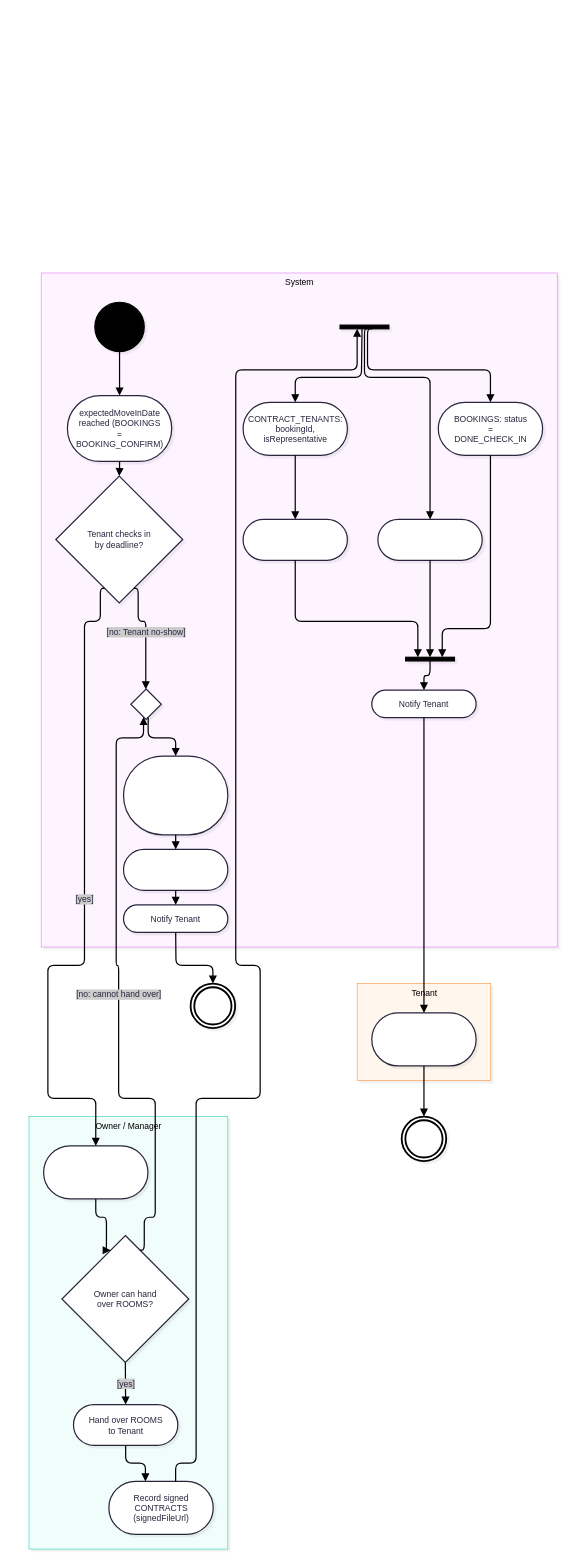
This 570x1562 diagram has some shape labels left out. The centre of each missing label's shape, as x and y in pixels:
BOOKINGS: status = CANCELED, deposit per cancellationPolicy: the point at 177,796
Inspect ROOMS condition with Tenant: the point at 97,1173
ROOM_SLOT_OCCUPANCIES: create: the point at 296,540
ROOMS: status = Available: the point at 177,871
ROOMS: status = Occupied: the point at 431,540
View ROOMS in 'Phòng trọ của tôi': the point at 425,1040
